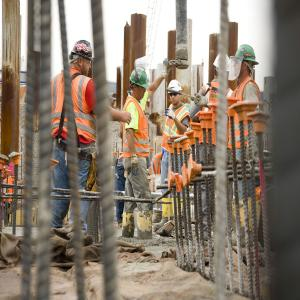blue: (70, 40, 95, 78)
white: (214, 52, 232, 81), (169, 80, 184, 106)
